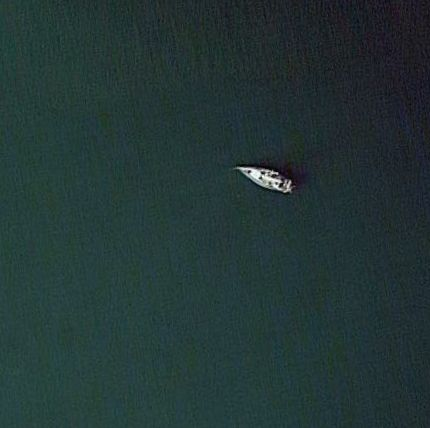boat: (234, 164, 298, 196)
